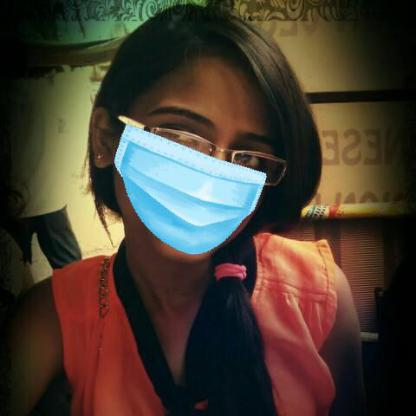Surgical Mask: (111, 84, 277, 266)
